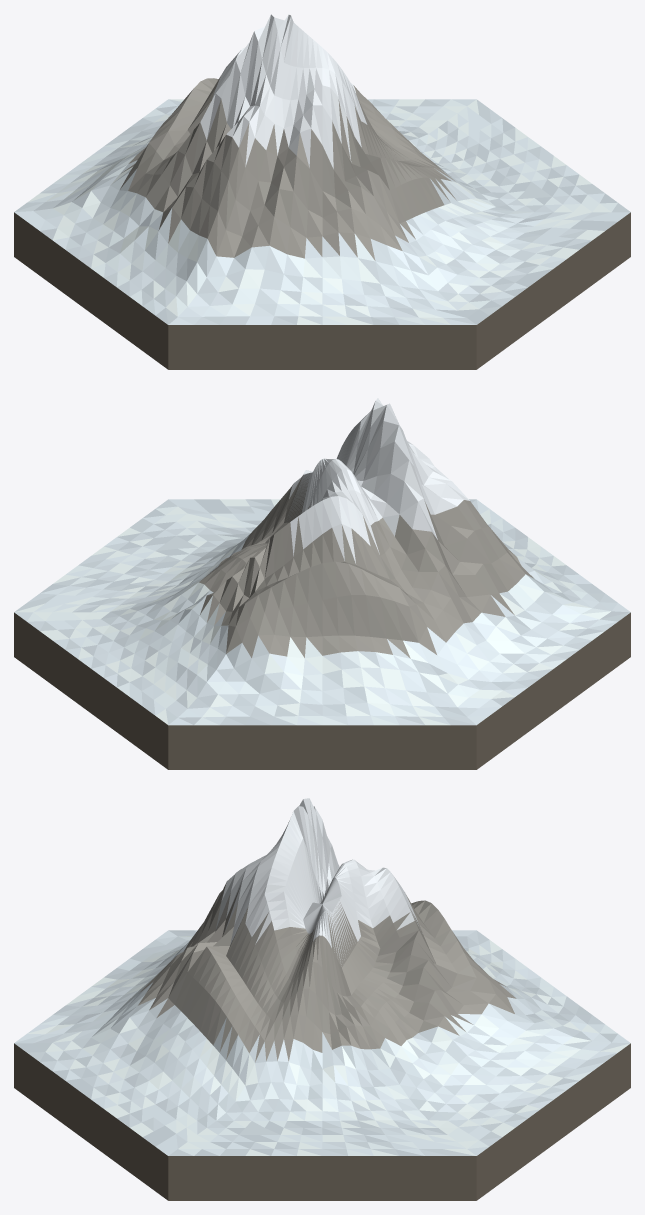
The model's file is TERRAIN_SNOW_MOUNTAIN_v02.fbx.
3 renders of one model, top to bottom at view 1: azimuth 30°, elevation 25°; view 2: azimuth 150°, elevation 25°; view 3: azimuth 270°, elevation 25°, orthographic.
Visible parts, largest first — view 1: TERRAIN_SNOW_MOUNTAIN_v02; view 2: TERRAIN_SNOW_MOUNTAIN_v02; view 3: TERRAIN_SNOW_MOUNTAIN_v02.
Part boxes in pixels (x1=…): TERRAIN_SNOW_MOUNTAIN_v02: x1=14, y1=14, x2=630, y2=369; TERRAIN_SNOW_MOUNTAIN_v02: x1=14, y1=398, x2=630, y2=769; TERRAIN_SNOW_MOUNTAIN_v02: x1=14, y1=798, x2=630, y2=1200.
Size of the model in its own units: 173 by 93.56 by 200.
